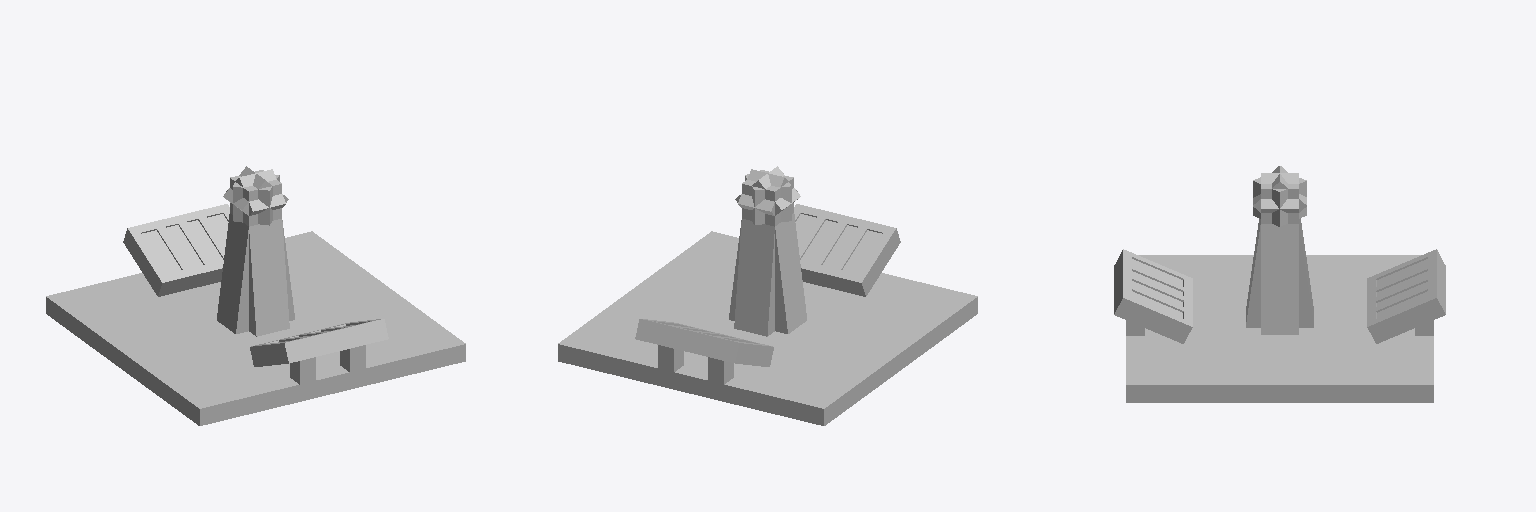
File: preobrazovatlsunrays.obj
3 views of the same model, side by side, from view 1: azimuth 30°, elevation 25°; view 2: azimuth 150°, elevation 25°; view 3: azimuth 270°, elevation 25° (orthographic).
Parts seen in each view (by area): view 1: cube.020, cube.022, cube, cube.024, cube.011, cube.026, cube.027, cube.002, cube.000, cube.028, cube.010, cube.009; view 2: cube.020, cube.023, cube.011, cube.024, cube, cube.026, cube.027, cube.013, cube.018, cube.028, cube.007, cube.006 (+1 smaller); view 3: cube.020, cube.021, cube, cube.011, cube.023, cube.022, cube.027, cube.028, cube.026.
Part boxes in pixels (x1,y1,x2,y2): cube.020: (46,231,465,425); cube.022: (249,219,289,336); cube: (123,214,228,296); cube.024: (217,213,248,333); cube.011: (250,321,388,366); cube.026: (226,169,285,221); cube.027: (233,172,279,225); cube.002: (136,206,222,233); cube.000: (127,226,170,283); cube.028: (223,166,288,222); cube.010: (290,357,315,384); cube.009: (340,345,365,371); cube.020: (558,231,977,425); cube.023: (734,219,774,336); cube.011: (795,214,900,296); cube.024: (775,213,806,333); cube: (635,321,773,366); cube.026: (738,169,797,221); cube.027: (745,173,791,224); cube.013: (801,206,887,233); cube.018: (853,226,896,283); cube.028: (735,166,800,223); cube.007: (708,357,733,384); cube.006: (658,345,683,371); cube.020: (1126,255,1433,402); cube.021: (1261,224,1298,334); cube: (1368,252,1445,343); cube.011: (1114,252,1191,343); cube.023: (1299,218,1313,327); cube.022: (1246,218,1260,327); cube.027: (1253,177,1306,226); cube.028: (1261,173,1298,212); cube.026: (1253,166,1306,222).
Bounding box in the file's own units: 1 × 0.5937 × 1.08.